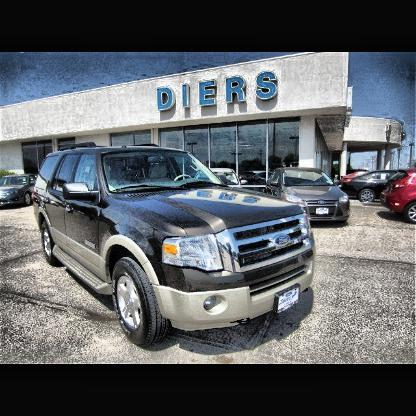Ford Expedition EL SUV 2009: (33, 146, 317, 348)
